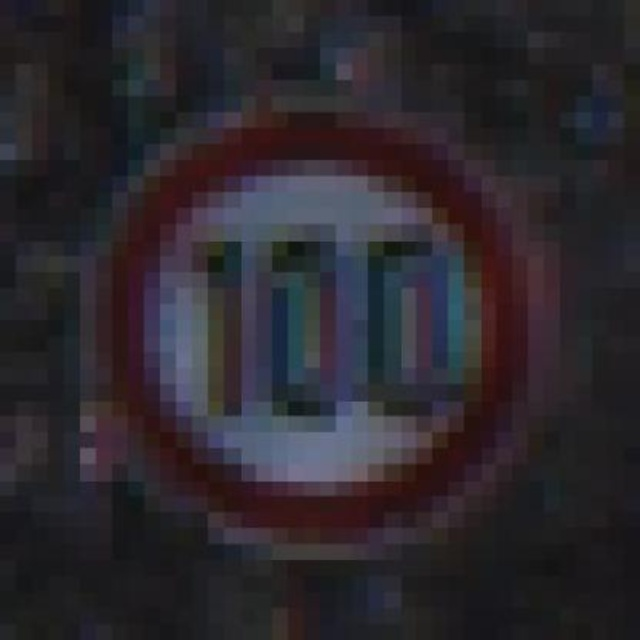Tốc độ tối đa cho phép 100km/h: (100, 104, 537, 547)
